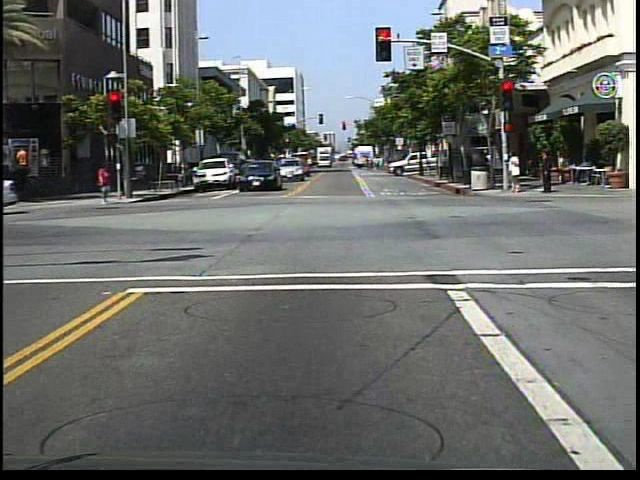person: (535, 147, 555, 196), (506, 149, 523, 198), (99, 161, 116, 208)
